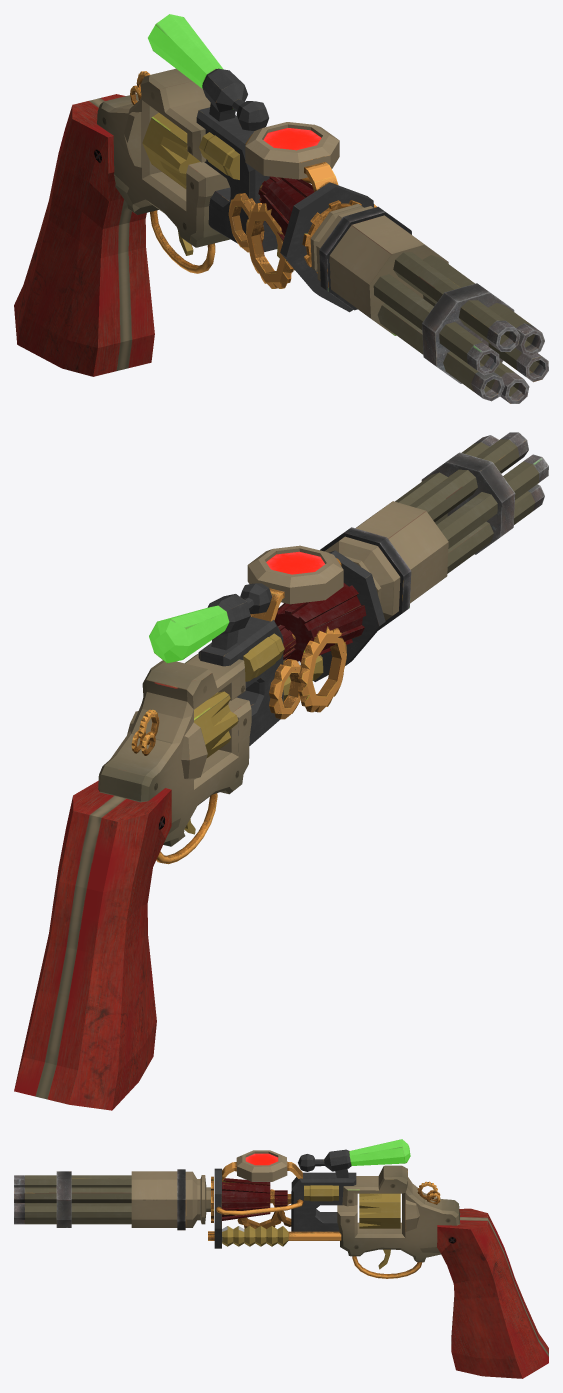
File: GUN.fbx
3 views of the same model, one above another, from view 1: azimuth 30°, elevation 25°; view 2: azimuth 150°, elevation 25°; view 3: azimuth 270°, elevation 25° (orthographic). The views are drawn at different scales.
Parts seen in each view (by area): view 1: Cube; view 2: Cube; view 3: Cube.
Boxes of the visible parts, bbox=[...] form: Cube: bbox=[14, 14, 548, 403]; Cube: bbox=[14, 432, 548, 1110]; Cube: bbox=[14, 1139, 548, 1378].
Size of the model in its own units: 5.94 by 20.77 by 44.47.
Materials: 1 (1 with a texture image).
